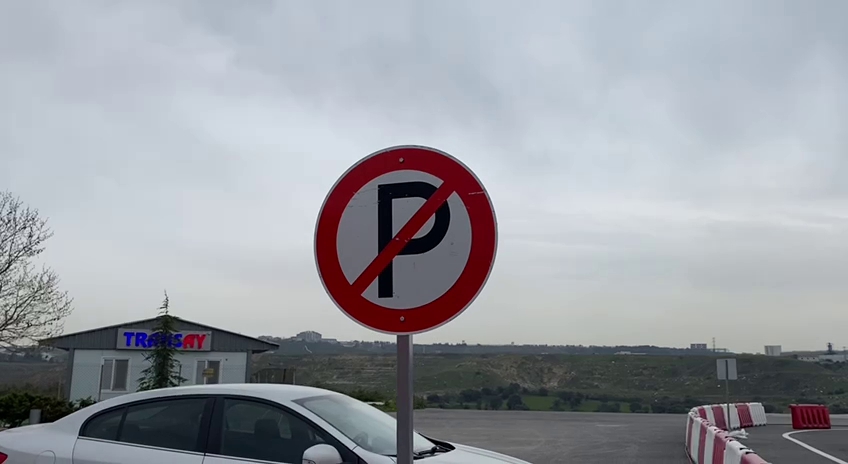noparking: (311, 142, 504, 338)
